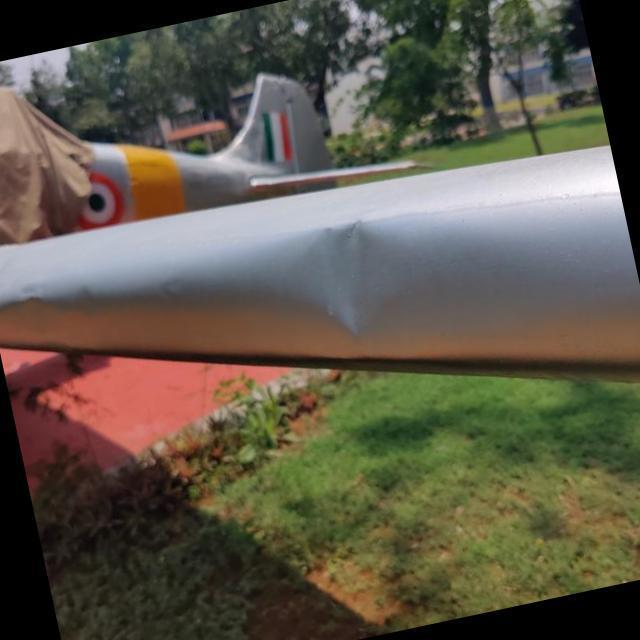Dent: (277, 197, 426, 360)
